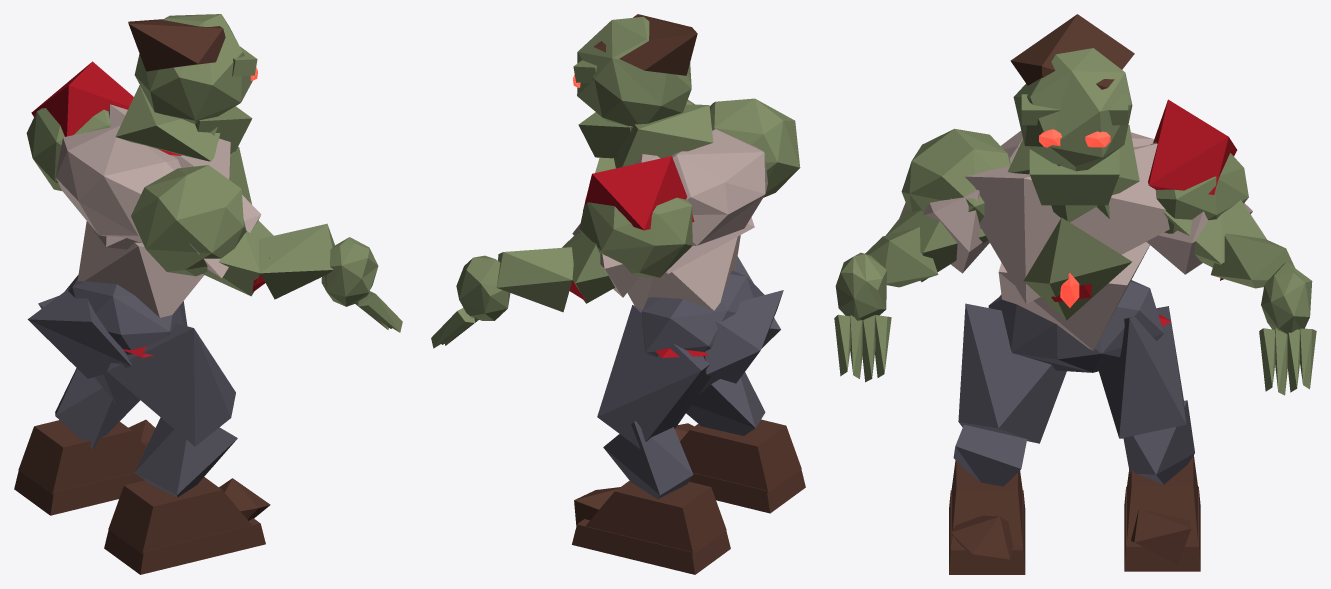
The picture shows the model from 3 angles, left to right: view 1: azimuth 30°, elevation 25°; view 2: azimuth 150°, elevation 25°; view 3: azimuth 270°, elevation 25°; orthographic projection. The views are drawn at different scales.
Visible parts, largest first — view 1: torso__alpha, armR__alpha, head__alpha, footR__alpha, footL__alpha, hip__alpha, legR__alpha, armL__alpha, shinR__alpha, foreArmR__alpha, handR__alpha, shinL__alpha (+1 smaller); view 2: torso__alpha, armL__alpha, head__alpha, footL__alpha, hip__alpha, footR__alpha, legL__alpha, armR__alpha, shinL__alpha, foreArmL__alpha, handL__alpha, shinR__alpha; view 3: torso__alpha, head__alpha, armL__alpha, armR__alpha, legR__alpha, footL__alpha, footR__alpha, legL__alpha, hip__alpha, handR__alpha, handL__alpha, shinR__alpha (+3 smaller).
Boxes of the visible parts, <box> form: torso__alpha: <box>55,85,251,317</box>; armR__alpha: <box>131,165,273,296</box>; head__alpha: <box>128,14,257,151</box>; footR__alpha: <box>104,477,270,574</box>; footL__alpha: <box>14,419,155,515</box>; hip__alpha: <box>27,275,187,378</box>; legR__alpha: <box>107,323,235,446</box>; armL__alpha: <box>26,61,133,190</box>; shinR__alpha: <box>134,417,237,497</box>; foreArmR__alpha: <box>259,223,334,299</box>; handR__alpha: <box>321,237,402,332</box>; shinL__alpha: <box>55,368,140,449</box>; torso__alpha: <box>595,104,767,310</box>; armL__alpha: <box>562,156,694,303</box>; head__alpha: <box>573,14,697,168</box>; footL__alpha: <box>572,480,730,574</box>; hip__alpha: <box>641,270,783,383</box>; footR__alpha: <box>675,419,805,513</box>; legL__alpha: <box>597,305,711,449</box>; armR__alpha: <box>709,98,800,197</box>; shinL__alpha: <box>603,421,693,498</box>; foreArmL__alpha: <box>496,247,573,312</box>; handL__alpha: <box>431,255,510,348</box>; shinR__alpha: <box>686,372,765,435</box>; torso__alpha: <box>965,125,1169,350</box>; head__alpha: <box>1010,14,1134,218</box>; armL__alpha: <box>1146,99,1266,274</box>; armR__alpha: <box>886,128,1010,282</box>; legR__alpha: <box>958,303,1066,443</box>; footL__alpha: <box>1124,455,1200,571</box>; footR__alpha: <box>949,460,1025,574</box>; legL__alpha: <box>1099,306,1187,438</box>; hip__alpha: <box>988,280,1163,372</box>; handR__alpha: <box>834,252,891,382</box>; handL__alpha: <box>1259,262,1316,395</box>; shinR__alpha: <box>953,424,1026,486</box>.
Bounding box in the file's own units: 1.22 × 2.33 × 1.95.
